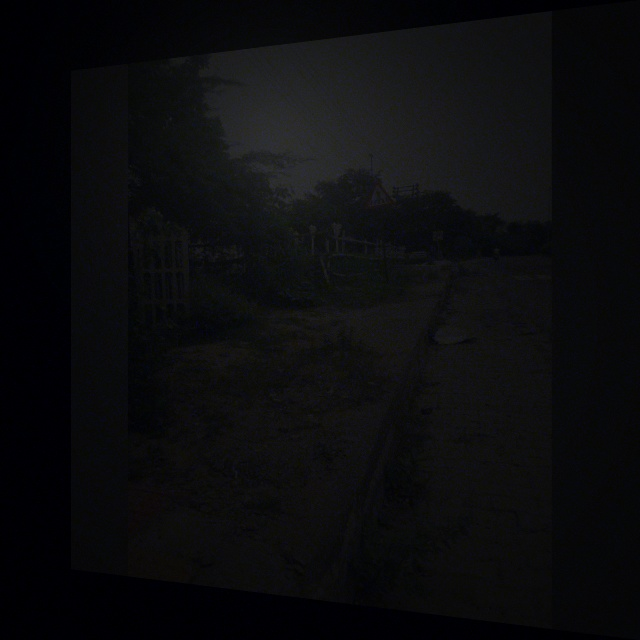Pedestrian_Crossing: (363, 171, 401, 212)
